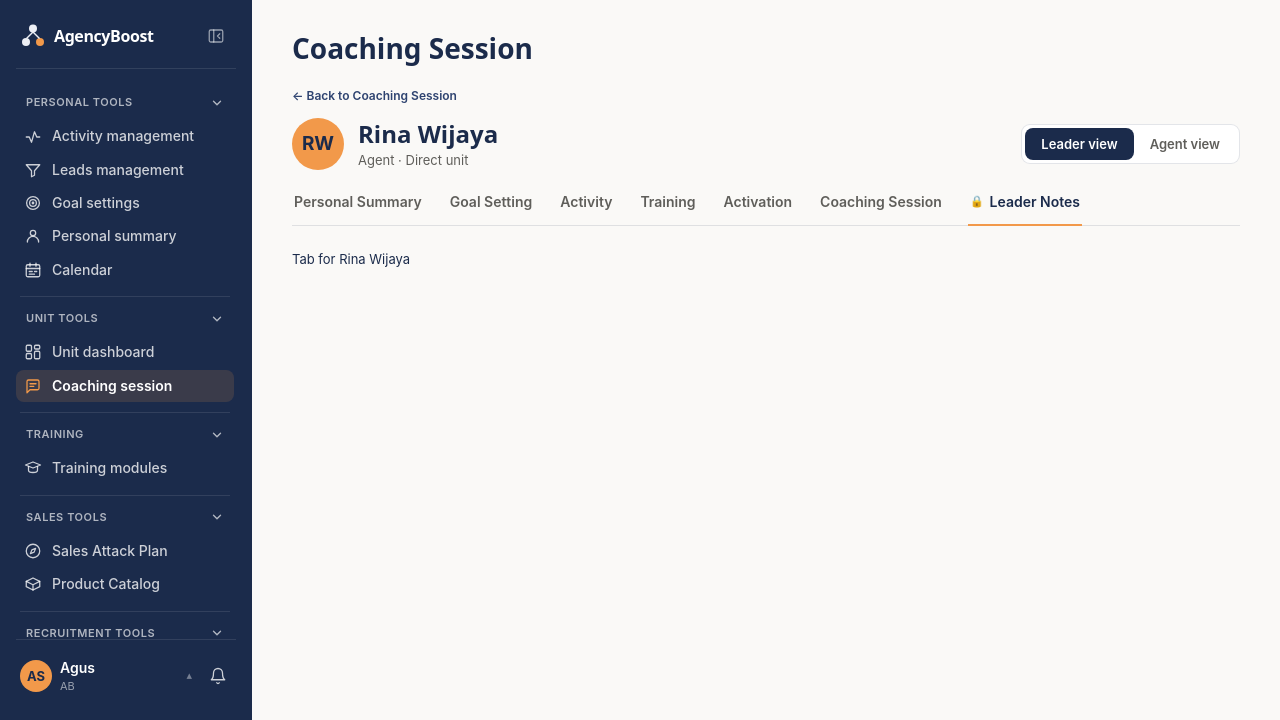
Test: the person shell (P11-T7) › P11-T7 AC-3 moves a reader standing on Leader Notes to Personal Summary, and drops the tab at once
This screenshot has width=1280, height=720.
Expected: the text "Tab for Rina Wijaya" is shown, [292, 251, 410, 267]
Click the button "Agent view": x=1185, y=144 [1134, 128, 1236, 160]
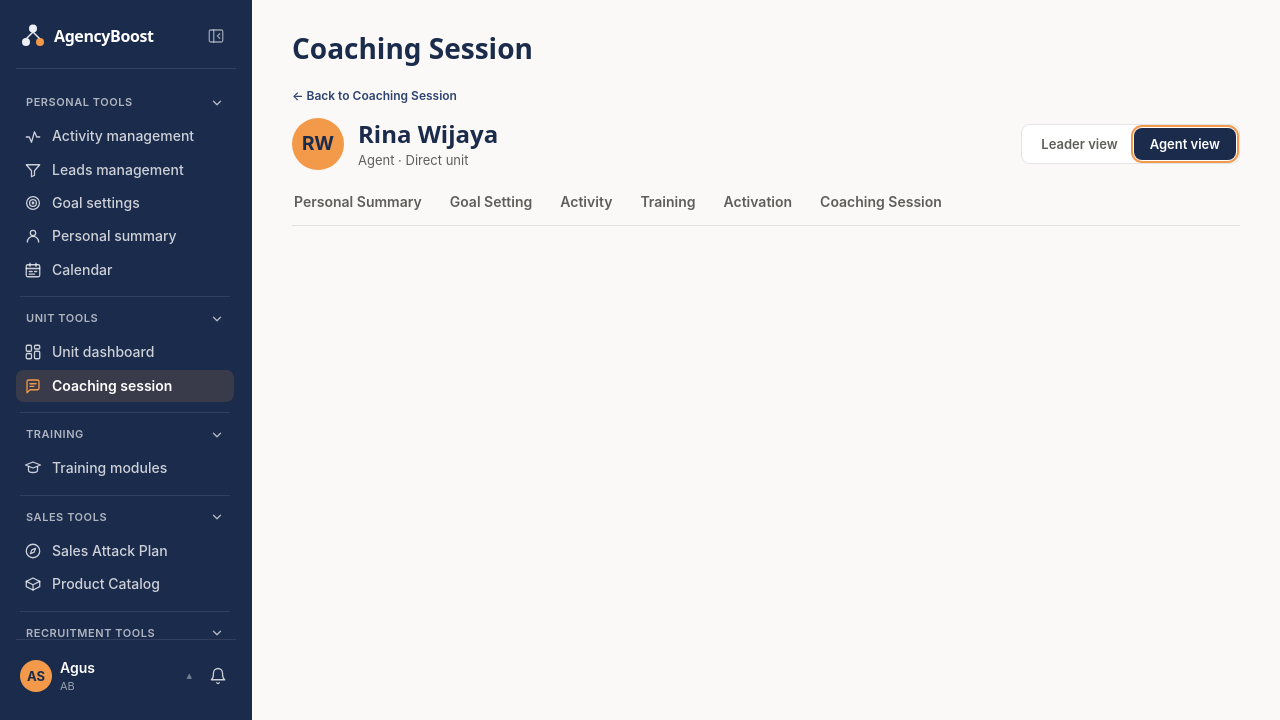
Expected: the text "Tab for Rina Wijaya" is gone
